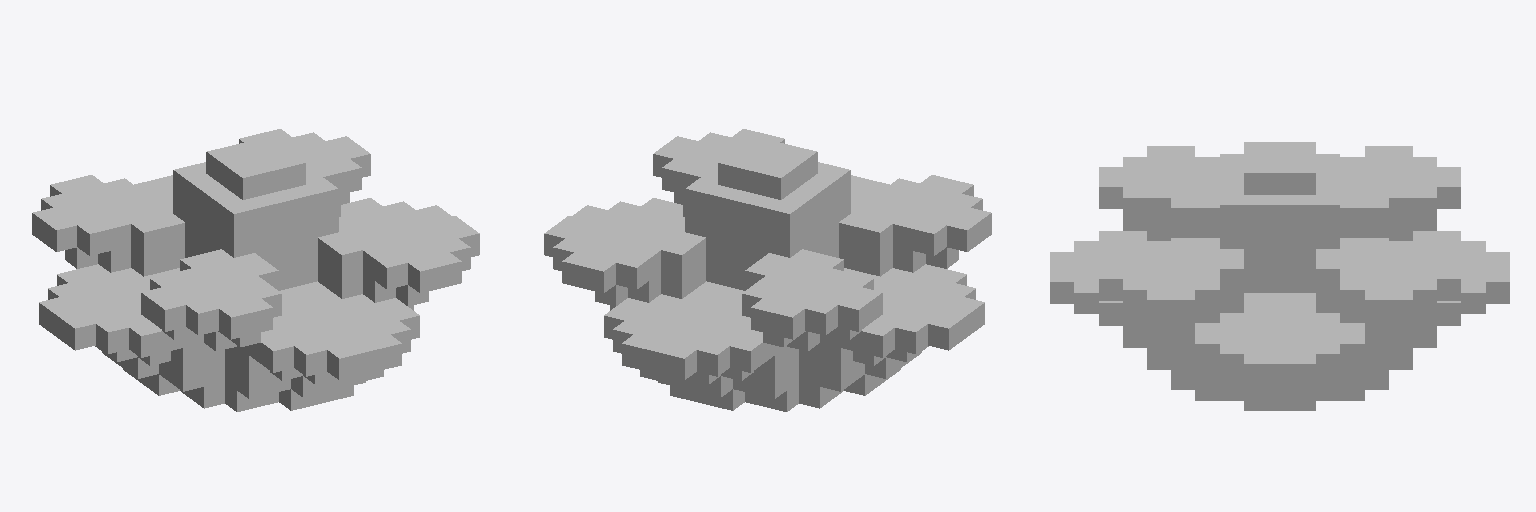
Rendered from boloto (2)-0.obj.
3 renders of one model, left to right at view 1: azimuth 30°, elevation 25°; view 2: azimuth 150°, elevation 25°; view 3: azimuth 270°, elevation 25°, orthographic.
Visible parts, largest first — view 1: object 1; view 2: object 1; view 3: object 1.
Boxes of the visible parts, box(x1,y1,x2,y2) form: object 1: box(32, 129, 479, 411); object 1: box(544, 129, 991, 411); object 1: box(1050, 142, 1509, 410).
Bounding box in the file's own units: 1.9 × 0.9 × 1.9.